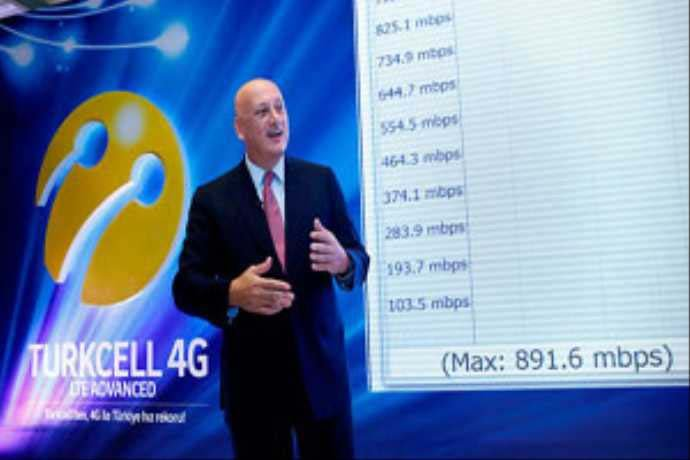turkcell: (31, 84, 188, 308)
